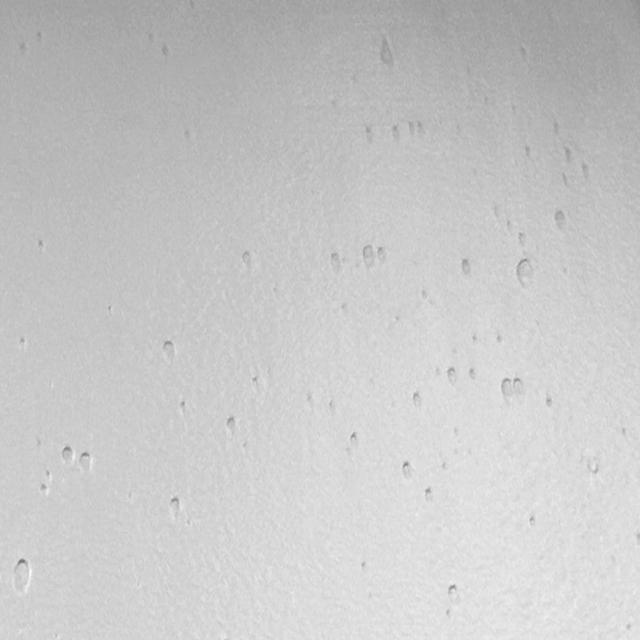pin holes: (513, 257, 539, 291), (9, 558, 32, 596), (376, 37, 398, 70), (166, 493, 187, 523), (551, 208, 572, 236), (78, 449, 98, 477), (239, 249, 261, 274), (159, 339, 180, 365), (496, 376, 517, 402), (559, 148, 579, 175), (58, 444, 77, 469), (346, 428, 364, 454), (397, 458, 417, 481), (517, 40, 534, 66), (410, 120, 430, 142), (445, 581, 464, 604), (360, 242, 378, 266), (326, 248, 344, 272), (222, 415, 240, 439), (443, 364, 460, 389), (391, 121, 408, 146), (578, 162, 596, 185), (459, 258, 476, 282), (248, 370, 264, 393), (361, 122, 376, 146), (511, 376, 528, 397), (177, 397, 193, 419), (489, 200, 505, 222), (410, 390, 425, 410), (376, 242, 391, 262), (422, 485, 436, 504), (40, 480, 54, 499), (468, 366, 482, 384), (304, 392, 318, 410), (161, 43, 174, 62), (18, 41, 31, 60), (418, 288, 432, 305), (522, 146, 536, 162), (360, 557, 374, 573), (588, 463, 602, 479), (525, 513, 538, 530), (544, 394, 556, 412), (516, 230, 528, 248), (18, 335, 30, 353), (144, 30, 156, 47), (328, 399, 340, 415), (44, 469, 56, 485), (623, 619, 635, 635), (439, 460, 452, 474), (37, 238, 49, 253), (444, 607, 456, 622), (36, 29, 46, 46), (470, 332, 482, 346), (497, 332, 508, 347), (104, 303, 115, 317)
